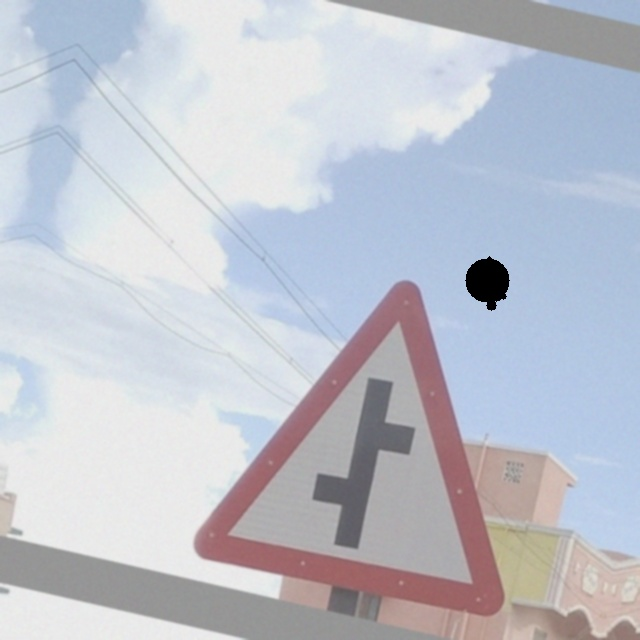Staggered_Intersection: (179, 220, 573, 630)
